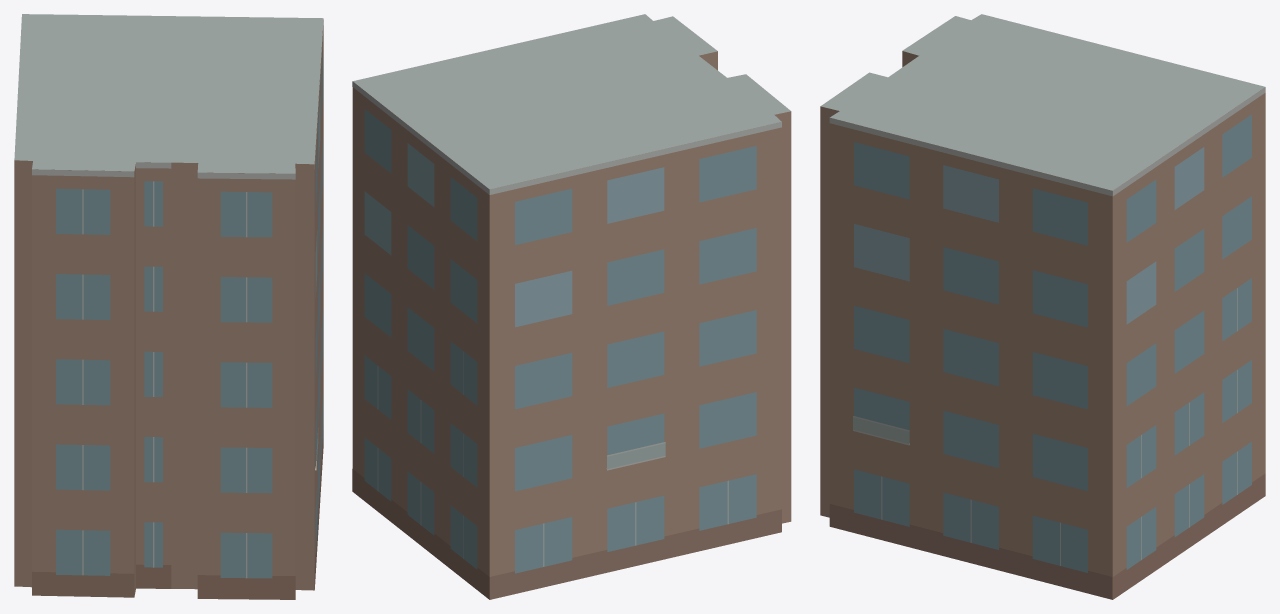
File: survey-upis-32837357.glb
3 renders of one model, left to right at view 1: azimuth 30°, elevation 25°; view 2: azimuth 150°, elevation 25°; view 3: azimuth 270°, elevation 25°, orthographic. The views are drawn at different scales.
Visible parts, largest first — view 1: survey-upis-32837357.tmp; view 2: survey-upis-32837357.tmp; view 3: survey-upis-32837357.tmp.
Boxes of the visible parts, x1=… form: survey-upis-32837357.tmp: x1=14, y1=14, x2=323, y2=599; survey-upis-32837357.tmp: x1=352, y1=14, x2=791, y2=599; survey-upis-32837357.tmp: x1=820, y1=14, x2=1265, y2=599.
Bounding box in the file's own units: 16.49 × 17.78 × 17.55.
